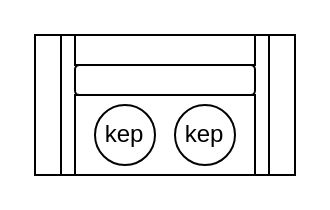
Some shapes in this 330 by 210 pixel diagram are drawn without their labels. The centre of each missing label's shape, as x and y in pixels:
"header" belongs at [164,49].
"nav" belongs at [164,79].
